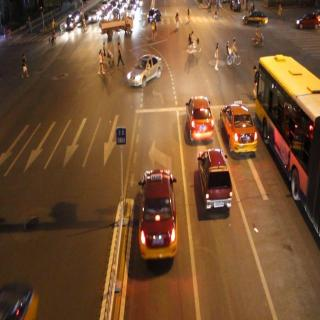BigCar: (248, 46, 320, 235), (100, 13, 139, 44)
Car: (132, 168, 181, 264), (189, 152, 240, 215), (214, 96, 261, 164), (180, 94, 217, 148), (125, 47, 166, 86), (292, 6, 320, 48), (241, 6, 274, 38), (146, 5, 166, 32)
